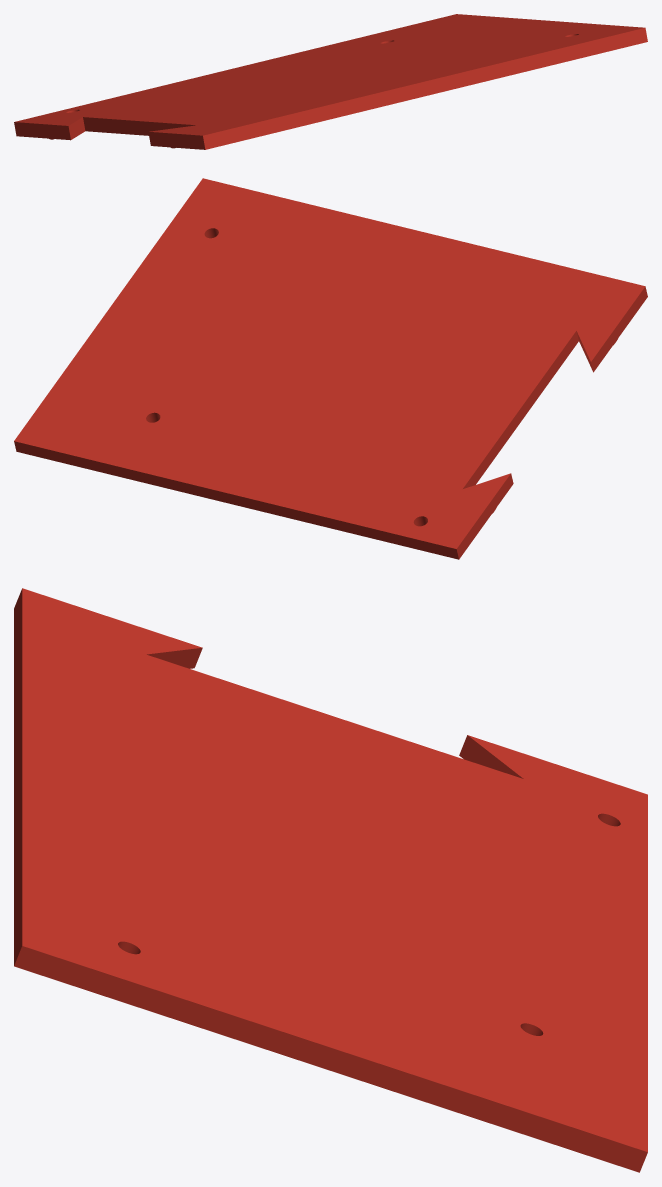
File: EBoxNewAsm_stp_1_Midplane_stp_1_solid3.obj
The picture shows the model from 3 angles, top to bottom: view 1: azimuth 30°, elevation 25°; view 2: azimuth 150°, elevation 25°; view 3: azimuth 270°, elevation 25°; orthographic projection. The views are drawn at different scales.
Visible parts, largest first — view 1: mesh9948, mesh9936, mesh9938, mesh9933, mesh9940, mesh9937; view 2: mesh9948, mesh9934, mesh9938, mesh9940, mesh9933; view 3: mesh9948, mesh9935, mesh9936, mesh9937.
Part boxes in pixels (box(x1,y1,x2,y2)): mesh9948: box(15, 14, 644, 135); mesh9936: box(203, 27, 647, 149); mesh9938: box(83, 117, 195, 135); mesh9933: box(14, 122, 70, 140); mesh9940: box(148, 131, 205, 149); mesh9937: box(68, 117, 85, 139); mesh9948: box(14, 178, 645, 548); mesh9934: box(14, 441, 458, 559); mesh9938: box(463, 331, 578, 488); mesh9940: box(591, 286, 647, 372); mesh9933: box(456, 473, 513, 559); mesh9948: box(22, 588, 647, 1151); mesh9935: box(14, 946, 647, 1172); mesh9936: box(14, 588, 22, 965); mesh9937: box(459, 735, 523, 778).
Size of the model in its own units: 0.1403 by 0.0415 by 0.1051.
